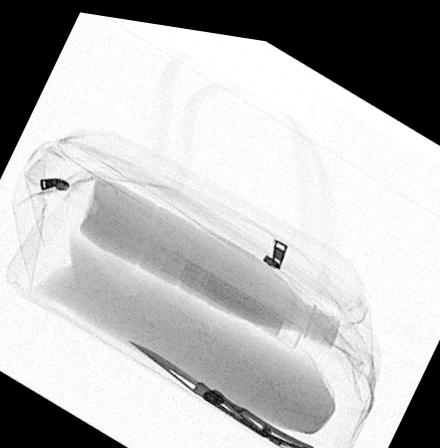Knife: (126, 334, 317, 448)
